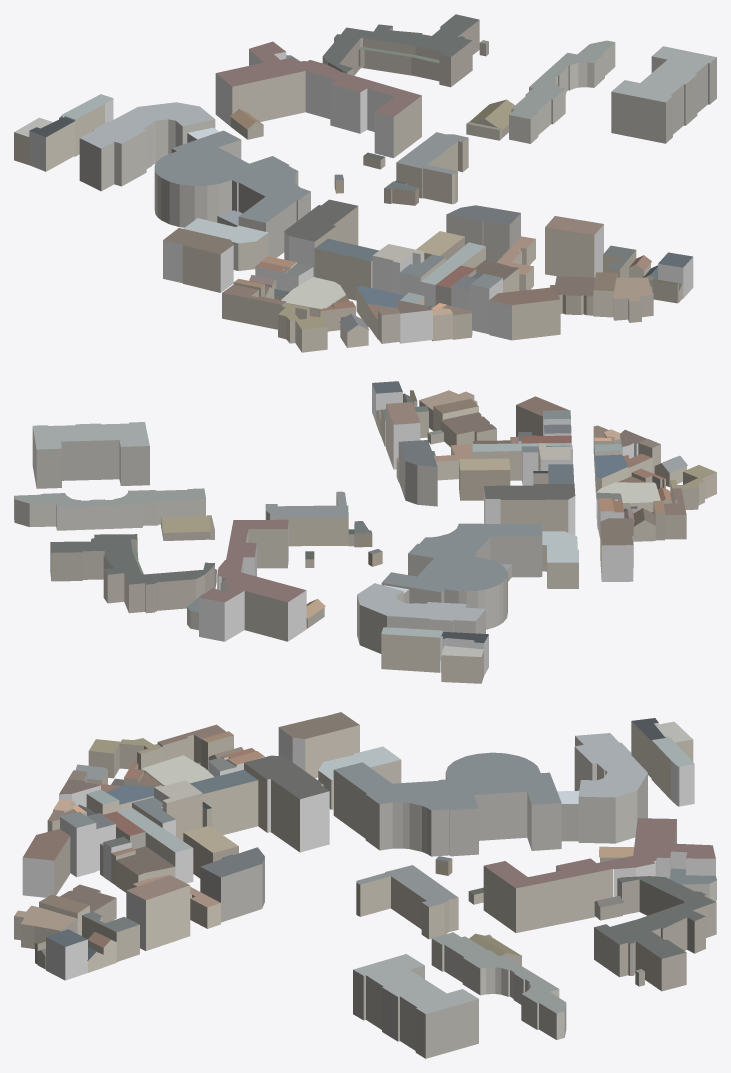
The picture shows the model from 3 angles, top to bottom: view 1: azimuth 30°, elevation 25°; view 2: azimuth 150°, elevation 25°; view 3: azimuth 270°, elevation 25°; orthographic projection. The views are drawn at different scales.
Parts seen in each view (by area): view 1: tuile; view 2: tuile; view 3: tuile.
Part boxes in pixels (x1=…): tuile: x1=14, y1=14, x2=716, y2=352; tuile: x1=14, y1=381, x2=716, y2=683; tuile: x1=14, y1=712, x2=716, y2=1058.
Bounding box in the file's own units: 280 × 27.88 × 266.
